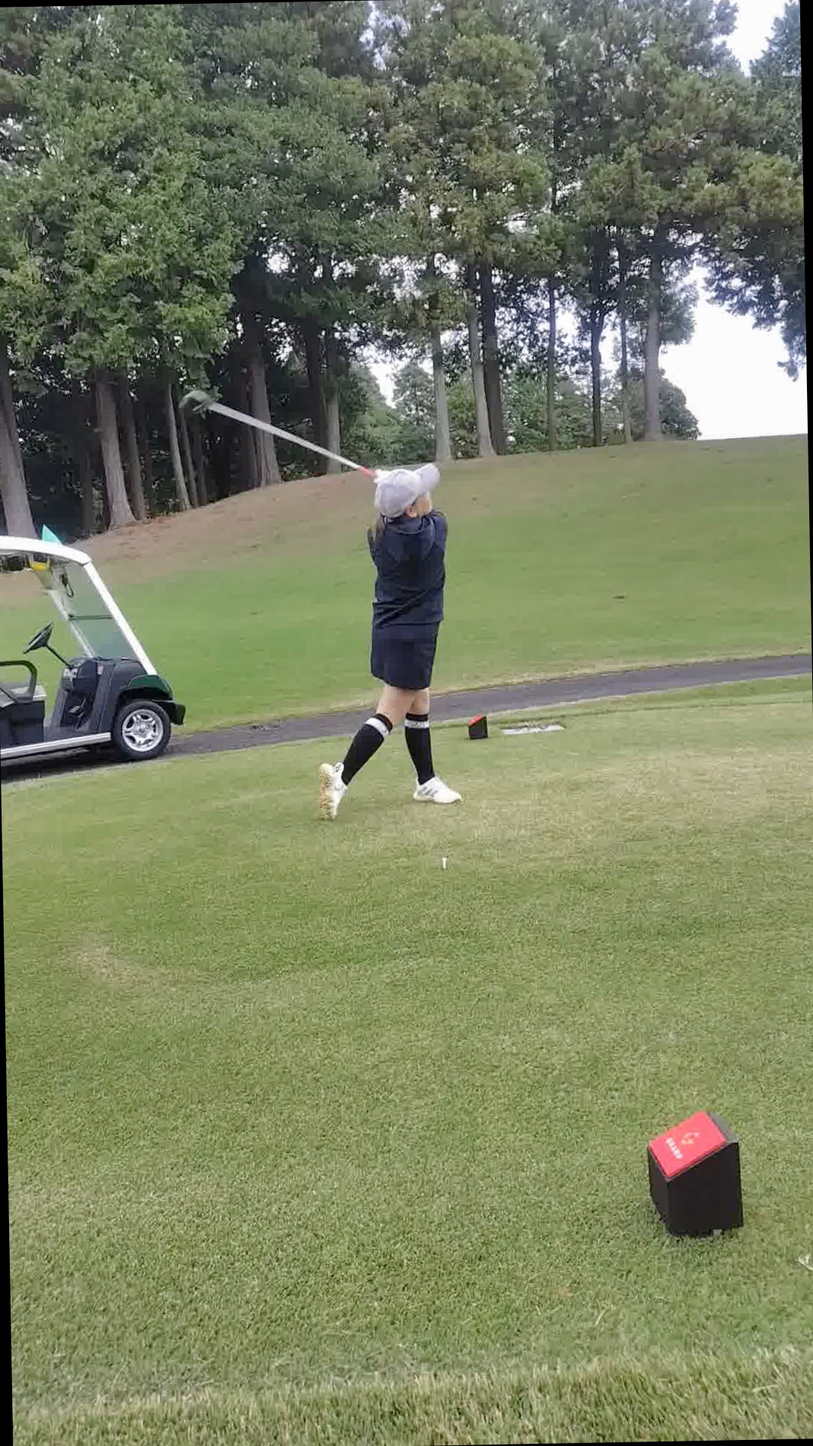clubhead: (108, 340, 321, 530)
